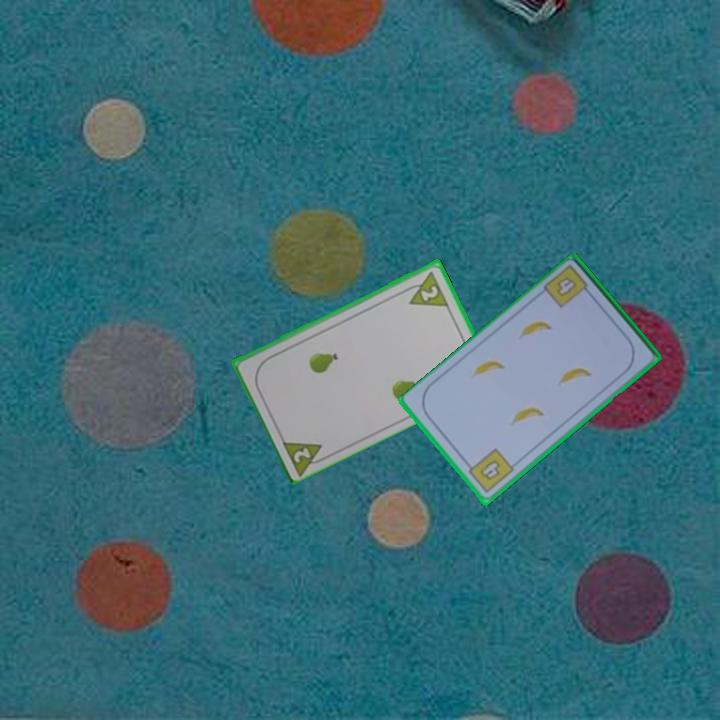2p: (278, 435, 332, 477), (400, 267, 451, 309)
4b: (462, 445, 517, 497), (553, 274, 580, 300)
